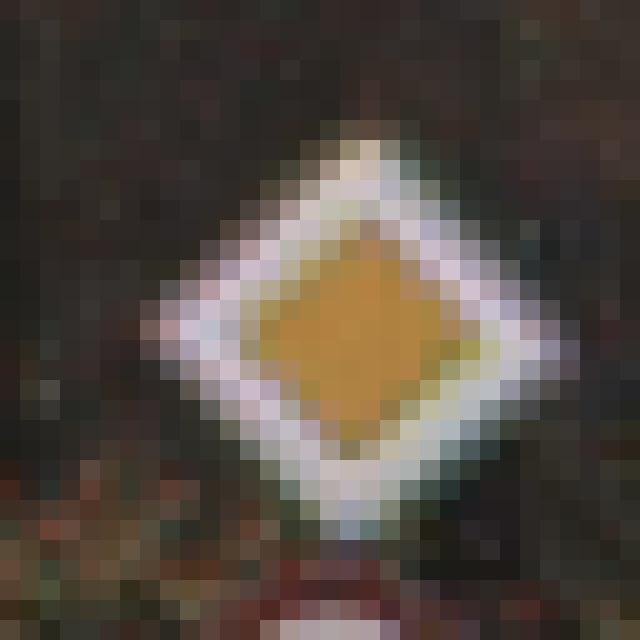Main Road: (121, 101, 541, 541)
